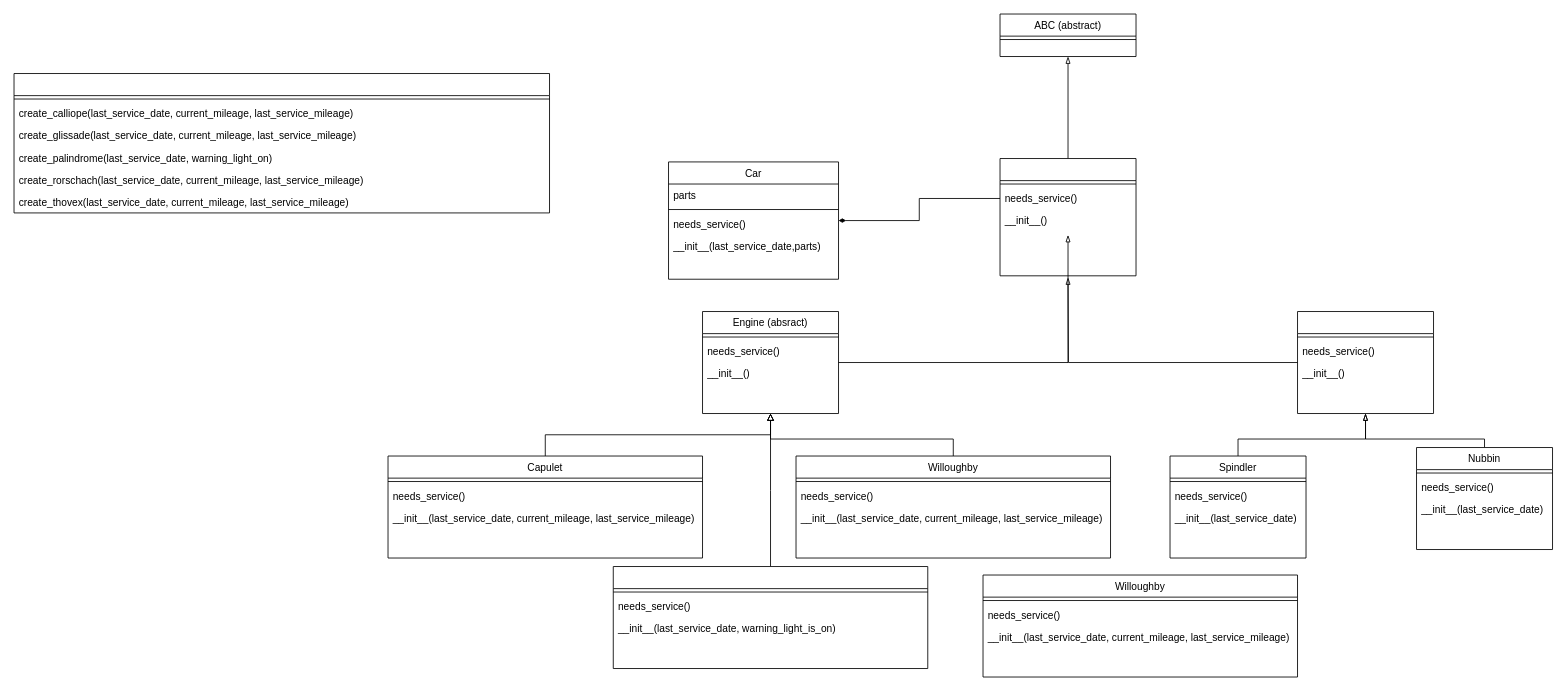
Image size: 1567x691. Some labels were removed from this diagram. The box of each missing label's shape, as (x1, y1, x2, y2) in pixels:
Battery (absract): (1297, 311, 1434, 414)
CarFactory: (13, 73, 550, 213)
Part (absract): (999, 158, 1136, 276)
Sternman: (612, 566, 928, 669)
